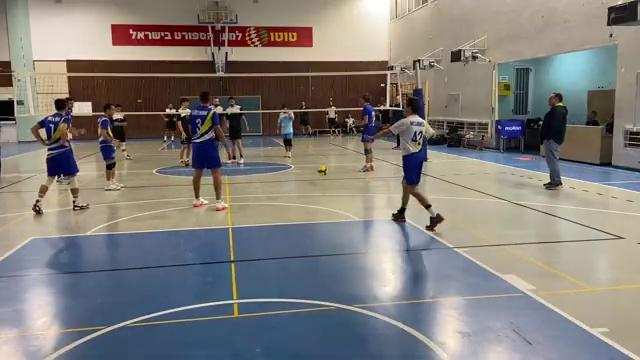ball: (317, 164, 327, 176)
